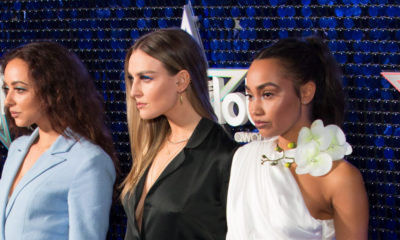without_mask: (243, 72, 294, 138), (127, 59, 170, 119), (3, 68, 45, 126)
